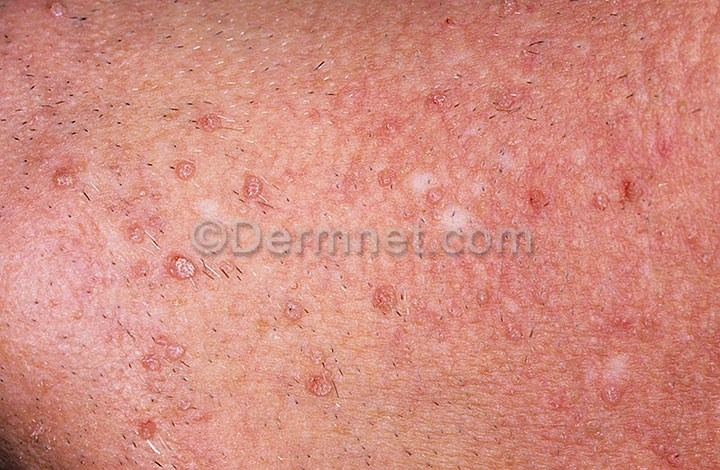Warts: (290, 350, 354, 412), (358, 278, 414, 326), (147, 249, 201, 297), (41, 158, 89, 202), (165, 150, 207, 187), (161, 155, 205, 189), (44, 0, 77, 29)
